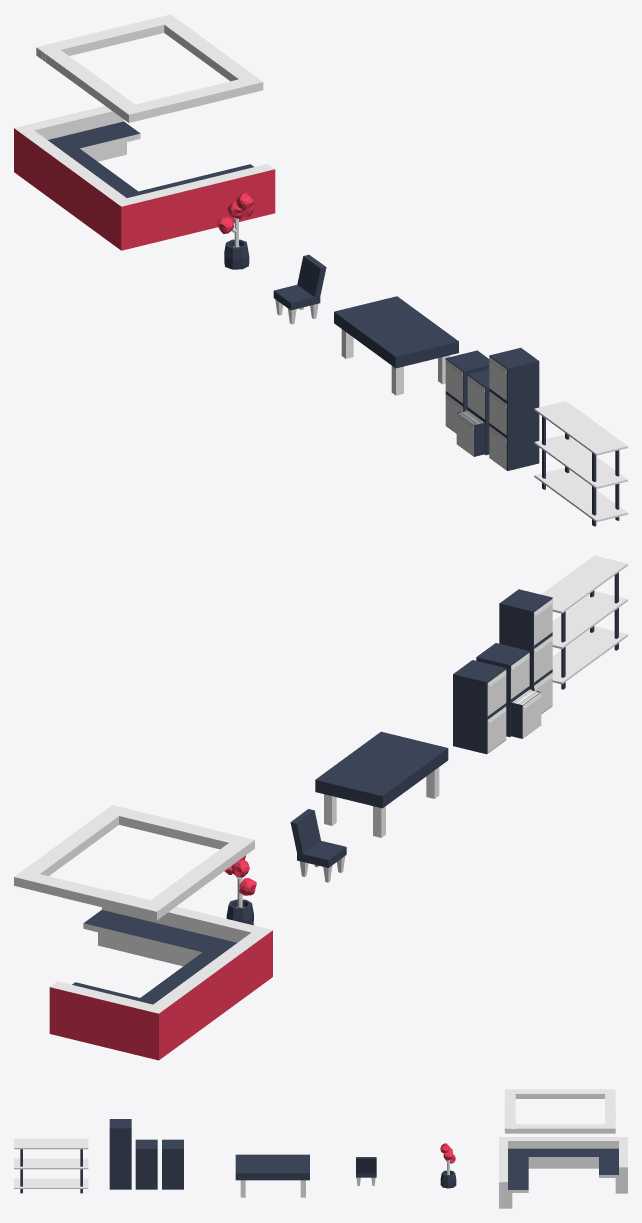
Rendered from assetPoliceStationObjects.fbx.
3 views of the same model, one above another, from view 1: azimuth 30°, elevation 25°; view 2: azimuth 150°, elevation 25°; view 3: azimuth 270°, elevation 25° (orthographic). The views are drawn at different scales.
Parts seen in each view (by area): view 1: FrontDesk, EvidenceShelf, OfficeDesk, FileCabinet3, FileCabinet2, OfficeChair, FileCabinet1, Plant; view 2: FrontDesk, OfficeDesk, EvidenceShelf, FileCabinet1, FileCabinet3, FileCabinet2, OfficeChair, Plant; view 3: FrontDesk, EvidenceShelf, OfficeDesk, FileCabinet3, FileCabinet2, FileCabinet1, OfficeChair, Plant.
Part boxes in pixels (<box>): FrontDesk: <box>14,14,275,250</box>; EvidenceShelf: <box>534,401,627,526</box>; OfficeDesk: <box>334,296,458,395</box>; FileCabinet3: <box>489,347,539,470</box>; FileCabinet2: <box>456,369,489,456</box>; OfficeChair: <box>273,254,326,324</box>; FileCabinet1: <box>445,350,489,433</box>; Plant: <box>217,192,253,269</box>; FrontDesk: <box>14,805,272,1060</box>; OfficeDesk: <box>315,731,448,837</box>; EvidenceShelf: <box>541,555,627,689</box>; FileCabinet1: <box>453,660,506,754</box>; FileCabinet3: <box>499,589,552,713</box>; FileCabinet2: <box>476,643,541,738</box>; OfficeChair: <box>290,809,346,882</box>; Plant: <box>224,855,256,925</box>; FrontDesk: <box>499,1089,627,1208</box>; EvidenceShelf: <box>14,1138,88,1193</box>; OfficeDesk: <box>235,1154,309,1197</box>; FileCabinet3: <box>109,1119,131,1189</box>; FileCabinet2: <box>135,1139,157,1189</box>; FileCabinet1: <box>162,1139,183,1189</box>; OfficeChair: <box>356,1157,376,1185</box>; Plant: <box>440,1143,456,1188</box>.
Bounding box in the file's own units: 4.86 × 3.95 × 27.98.
